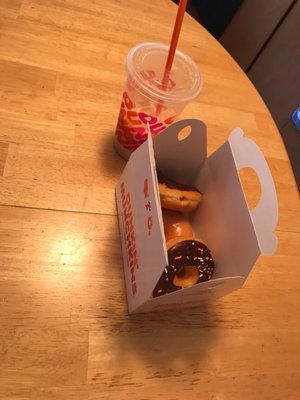pizza: (112, 41, 203, 157)
salad: (157, 0, 190, 90)
